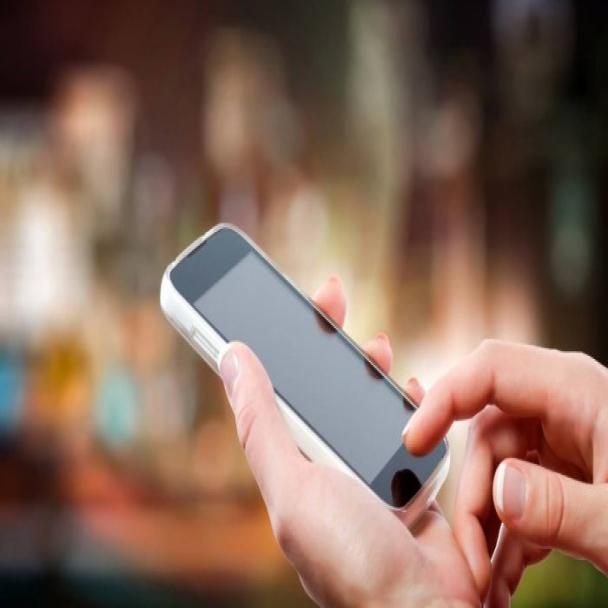Handphone: (141, 207, 461, 559)
